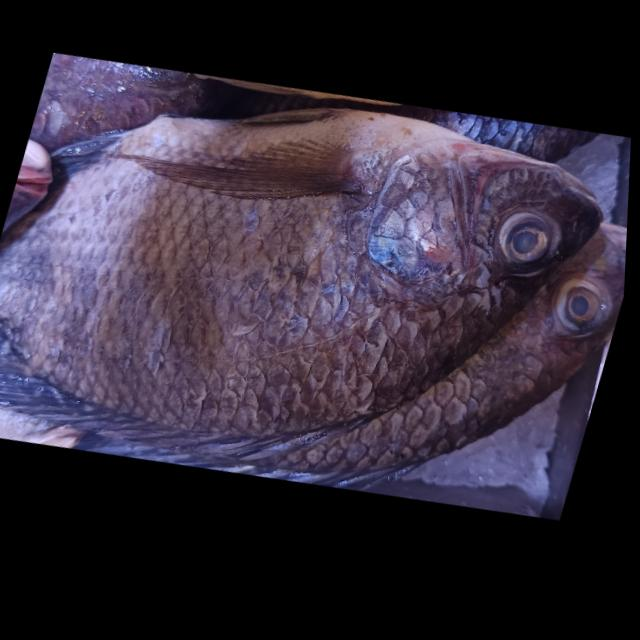Tilapia: (0, 8, 628, 562)
